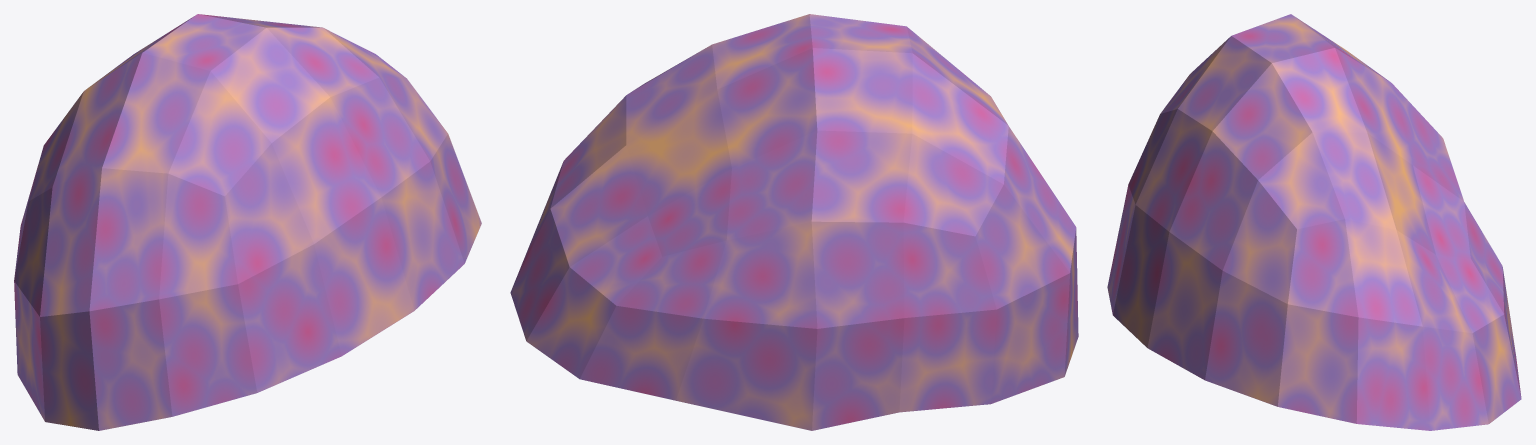
File: 立方体.161.fbx
3 views of the same model, side by side, from view 1: azimuth 30°, elevation 25°; view 2: azimuth 150°, elevation 25°; view 3: azimuth 270°, elevation 25° (orthographic). The views are drawn at different scales.
Visible parts, largest first — view 1: 立方体.161; view 2: 立方体.161; view 3: 立方体.161.
Part boxes in pixels (x1,y1,x2,y2): 立方体.161: [14, 14, 481, 430]; 立方体.161: [510, 14, 1078, 430]; 立方体.161: [1107, 14, 1521, 430].
Size of the model in its own units: 19.98 by 12.77 by 15.48.
